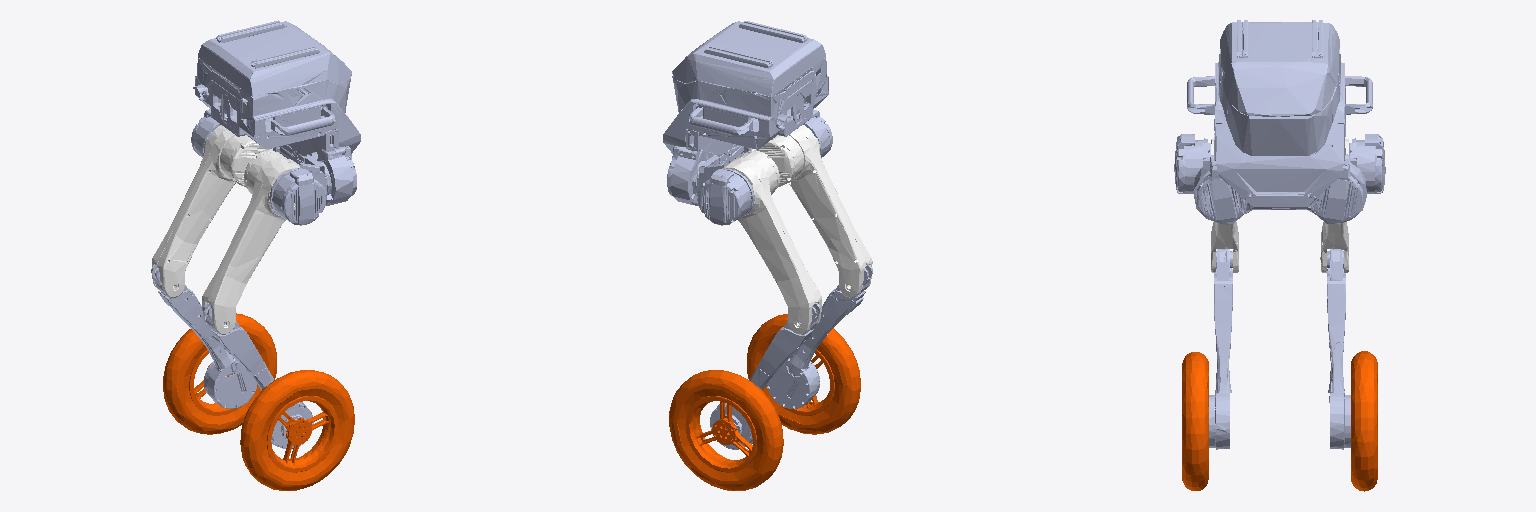
robot.urdf — wheel_biped:
<?xml version="1.0" encoding="utf-8"?>
<!-- Modified from LimX Dynamics' tron1-robot-description, pointfoot/WF_TRON1A/urdf/robot.urdf at commit
     ac417d44656d3c7494a095cecd62928e777a0f3a (Apache-2.0, LICENSE beside urdf/). Changes: the mesh URIs name this
     package's decimated STL files, the wheel_L_Joint and wheel_R_Joint are continuous instead of revolute with
     +-1e6 rad limits, and trailing whitespace is removed. README.md beside urdf/ lists them. -->
<robot name="wheel_biped">
    <!--
      Uncomment to support the robot by fixing its base link to the world frame.
      This anchors the robot in place, preventing movement.
    -->

    <!--
    <link name="world"/>
    <joint name="base_static_Joint" type="fixed">
        <origin rpy="0 0 0" xyz="0 0 0.3"/>
        <parent link="world"/>
        <child link="base_Link"/>
    </joint>
    -->
    <material name="black">
        <color rgba="0.0 0.0 0.0 1.0"/>
    </material>
    <material name="blue">
        <color rgba="0.0 0.0 0.8 1.0"/>
    </material>
    <material name="green">
        <color rgba="0.0 0.8 0.0 1.0"/>
    </material>
    <material name="grey">
        <color rgba="0.2 0.2 0.2 1.0"/>
    </material>
    <material name="silver">
        <color rgba="0.9137254901960784 0.9137254901960784 0.8470588235294118 1.0"/>
    </material>
    <material name="orange">
        <color rgba="1.0 0.4235294117647059 0.0392156862745098 1.0"/>
    </material>
    <material name="brown">
        <color rgba="0.8705882352941177 0.8117647058823529 0.7647058823529411 1.0"/>
    </material>
    <material name="red">
        <color rgba="0.8 0.0 0.0 1.0"/>
    </material>
    <material name="white">
        <color rgba="1.0 1.0 1.0 1.0"/>
    </material>
    <!-- ros_control plugin -->
    <gazebo>
        <plugin filename="libpointfoot_hw_sim.so" name="gazebo_ros_control">
            <robotNamespace>/</robotNamespace>
            <robotParam>robot_description</robotParam>
            <robotSimType>pointfoot_gazebo/PointFootHWSim</robotSimType>
        </plugin>
    </gazebo>
    <gazebo>
        <plugin filename="libgazebo_ros_p3d.so" name="p3d_base_controller">
            <alwaysOn>true</alwaysOn>
            <updateRate>1000.0</updateRate>
            <bodyName>base_Link</bodyName>
            <topicName>ground_truth/state</topicName>
            <gaussianNoise>0</gaussianNoise>
            <frameName>world</frameName>
            <xyzOffsets>0 0 0</xyzOffsets>
            <rpyOffsets>0 0 0</rpyOffsets>
        </plugin>
    </gazebo>

    <!-- <link name="world"/>
  <joint name="base_static_joint" type="fixed">
    <origin rpy="0 0 0" xyz="0 0 1"/>
    <parent link="world"/>
    <child link="base_Link"/>
  </joint>  -->

    <link
            name="base_Link">
        <inertial>
            <origin rpy="0 0 0" xyz="45.76E-03 0.14E-03 -163.98E-03"/>
            <mass value="9.585"/>
            <inertia ixx="140110.479E-06" ixy="534.939E-06" ixz="28184.116E-06"
                     iyy="110641.449E-06" iyz="-27.278E-06" izz="98944.542E-06"/>
        </inertial>
        <visual>
            <origin
                    xyz="0 0 0"
                    rpy="0 0 0"/>
            <geometry>
                <mesh
                        filename="package://tron1_description/meshes/base_Link.stl"/>
            </geometry>
            <material
                    name="">
                <color
                        rgba="0.79216 0.81961 0.93333 1"/>
            </material>
        </visual>
        <collision>
            <origin xyz="0.03 0 -0.072" rpy="0 0 0"/>
            <geometry>
                <box size="0.27 0.26 0.19"/>
            </geometry>
        </collision>
    </link>

     <joint name="limx_imu_joint" type="fixed">
        <origin rpy="0. 0. 0." xyz="0. 0. 0."/>
        <parent link="base_Link"/>
        <child link="limx_imu"/>
    </joint>
    <!-- Imu link -->
    <link name="limx_imu">
        <inertial>
            <mass value="0.01"/>
            <origin rpy="0 0 0" xyz="0 0 0"/>
            <inertia ixx="0.000001" ixy="0" ixz="0" iyy="0.000001" iyz="0" izz="0.000001"/>
        </inertial>
        <visual>
            <origin rpy="0 0 0" xyz="0 0 0"/>
            <geometry>
                <box size="0.015 0.015 0.004"/>
            </geometry>
        </visual>
        <material name="orange">
            <color rgba="255 108 10 255"/>
        </material>
    </link>
    <gazebo reference="limx_imu">
        <material>Gazebo/Orange</material>
    </gazebo>
    <gazebo reference="limx_imu_joint">
        <disableFixedJointLumping>true</disableFixedJointLumping>
    </gazebo>

    <link
            name="abad_L_Link">
        <inertial>
            <origin rpy="0 0 0" xyz="-69.77E-03 44.79E-03 0.57E-03"/>
            <mass value="1.469"/>
            <inertia ixx="1555.384E-06" ixy="397.78E-06" ixz="-13.10E-06"
                     iyy="2359.25E-06" iyz="-0.98E-06" izz="2080.92E-06"/>
        </inertial>
        <visual>
            <origin
                    xyz="0 0 0"
                    rpy="0 0 0"/>
            <geometry>
                <mesh
                        filename="package://tron1_description/meshes/abad_L_Link.stl"/>
            </geometry>
            <material
                    name="">
                <color
                        rgba="0.79216 0.81961 0.93333 1"/>
            </material>
        </visual>
        <collision>
            <origin xyz="0.03 0 0" rpy="1.57 0 1.57"/>
            <geometry>
                <cylinder length="0.05" radius="0.05"/>
            </geometry>
        </collision>
    </link>
    <joint
            name="abad_L_Joint"
            type="revolute">
        <origin
                xyz="55.56E-03 105E-03 -260.2E-03"
                rpy="0 0 0"/>
        <parent
                link="base_Link"/>
        <child
                link="abad_L_Link"/>
        <axis
                xyz="1 0 0"/>
        <limit effort="80.0" lower="-0.38397" upper="1.39626" velocity="15.0"/>
    </joint>
    <link
            name="hip_L_Link">
        <inertial>
            <origin rpy="0 0 0" xyz="-28.69E-03 -47.7E-03 -39.92E-03"/>
            <mass value="2.3"/>
            <inertia ixx="16937.28E-06" ixy="1647.03E-06" ixz="-9232.53E-06"
                     iyy="22853.28E-06" iyz="2202.40E-06" izz="9334.19E-06"/>
        </inertial>
        <visual>
            <origin
                    xyz="0 0 0"
                    rpy="0 0 0"/>
            <geometry>
                <mesh
                        filename="package://tron1_description/meshes/hip_L_Link.stl"/>
            </geometry>
            <material
                    name="">
                <color
                        rgba="1 1 1 1"/>
            </material>
        </visual>
        <collision>
            <origin xyz="-0.10 -0.03 -0.14" rpy="0 0.53 0"/>
            <geometry>
                <cylinder length="0.15" radius="0.035"/>
            </geometry>
        </collision>
    </link>
    <joint
            name="hip_L_Joint"
            type="revolute">
        <origin
                xyz="-0.077 0.02050 0"
                rpy="0 0 0"/>
        <parent
                link="abad_L_Link"/>
        <child
                link="hip_L_Link"/>
        <axis
                xyz="0 1 0"/>
        <limit effort="80.0" lower="-1.012291" upper="1.396263" velocity="15.0"/>
    </joint>
    <link
            name="knee_L_Link">
        <inertial>
            <origin rpy="0 0 0" xyz="119.13E-03 11.06E-03 -203.63E-03"/>
            <mass value="1.49"/>
            <inertia ixx="13232.8E-06" ixy="-435.46E-06" ixz="6935.69E-06"
                     iyy="17661.37E-06" iyz="790.87E-06" izz="5016.98E-06"/>
        </inertial>
        <visual>
            <origin
                    xyz="0 0 0"
                    rpy="0 0 0"/>
            <geometry>
                <mesh
                        filename="package://tron1_description/meshes/knee_L_Link.stl"/>
            </geometry>
            <material
                    name="">
                <color
                        rgba="0.79216 0.81961 0.93333 1"/>
            </material>
        </visual>
        <collision>
            <origin xyz="0.078 0 -0.12" rpy="0 -0.55 0"/>
            <geometry>
                <cylinder length="0.26" radius="0.015"/>
            </geometry>
        </collision>
        <!-- hub motor housing on the knee, around the wheel axle -->
        <collision>
            <origin xyz="0.15 0.0149 -0.25981" rpy="1.5707963267948966 0 0"/>
            <geometry>
                <cylinder length="0.0562" radius="0.052"/>
            </geometry>
        </collision>
    </link>
    <joint
            name="knee_L_Joint"
            type="revolute">
        <origin
                xyz="-0.1500 -0.02050 -0.25981"
                rpy="0 0 0"/>
        <parent
                link="hip_L_Link"/>
        <child
                link="knee_L_Link"/>
        <axis
                xyz="0 -1 0"/>
        <limit effort="80" lower="-0.872665" upper="1.361357" velocity="15"/>
    </joint>

    <joint name="wheel_L_Joint" type="continuous">
        <origin rpy="0 0 0" xyz="150E-03 43.5E-03 -259.81E-03" />
        <parent link="knee_L_Link" />
        <child link="wheel_L_Link" />
        <axis xyz="0 1 0" />
        <limit effort="40" velocity="40" />
        <dynamics friction="0.01" />
    </joint>

    <link name="wheel_L_Link">
        <visual>
            <origin rpy="0 0 0" xyz="0 0 0" />
            <geometry>
                <mesh filename="package://tron1_description/meshes/wheel_L_Link.stl" />
            </geometry>
            <material name="orange" />
            <color rgba="0.69804 0.69804 0.69804 1" />
        </visual>
        <collision>
            <origin rpy="1.5707963267948966 0 0" xyz="0 0.00707 0" />
            <geometry>
                <cylinder length="0.05" radius="0.127" />
            </geometry>
        </collision>
        <inertial>
            <origin rpy="0 0 0" xyz="0.03E-03 8.07E-03 -0.02E-03" />
            <mass value="1.08" />
            <inertia ixx="5155.12E-06" ixy="0.01E-06" ixz="-0.97E-06"
                     iyy="9742.72E-06" iyz="-0.01E-06" izz="5154.00E-06" />
        </inertial>
    </link>

    <gazebo reference="hip_L_Link">
        <mu1>0.2</mu1>
        <mu2>0.2</mu2>
        <material>Gazebo/DarkGrey</material>
    </gazebo>
    <gazebo reference="knee_L_Link">
        <mu1>0.2</mu1>
        <mu2>0.2</mu2>
        <self_collide>0</self_collide>
        <material>Gazebo/DarkGrey</material>
        <kp value="1000000.0"/>
        <kd value="100.0"/>
    </gazebo>
    <gazebo reference="wheel_L_Link">
        <mu1>0.6</mu1>
        <mu2>0.6</mu2>
        <self_collide>1</self_collide>
        <material>Gazebo/DarkGrey</material>
        <kp value="1000000.0"/>
        <kd value="1.0"/>
    </gazebo>

    <transmission name="abad_L_Joint_tran">
        <type>transmission_interface/SimpleTransmission</type>
        <joint name="abad_L_Joint">
            <hardwareInterface>hardware_interface/EffortJointInterface</hardwareInterface>
        </joint>
        <actuator name="abad_L_Joint_motor">
            <hardwareInterface>hardware_interface/EffortJointInterface</hardwareInterface>
            <mechanicalReduction>1</mechanicalReduction>
        </actuator>
    </transmission>
    <transmission name="hip_L_Joint_tran">
        <type>transmission_interface/SimpleTransmission</type>
        <joint name="hip_L_Joint">
            <hardwareInterface>hardware_interface/EffortJointInterface</hardwareInterface>
        </joint>
        <actuator name="hip_L_Joint_motor">
            <hardwareInterface>hardware_interface/EffortJointInterface</hardwareInterface>
            <mechanicalReduction>1</mechanicalReduction>
        </actuator>
    </transmission>
    <transmission name="knee_L_Joint_tran">
        <type>transmission_interface/SimpleTransmission</type>
        <joint name="knee_L_Joint">
            <hardwareInterface>hardware_interface/EffortJointInterface</hardwareInterface>
        </joint>
        <actuator name="knee_L_Joint_motor">
            <hardwareInterface>hardware_interface/EffortJointInterface</hardwareInterface>
            <mechanicalReduction>1</mechanicalReduction>
        </actuator>
    </transmission>
    <transmission name="wheel_L_Joint_tran">
        <type>transmission_interface/SimpleTransmission</type>
        <joint name="wheel_L_Joint">
            <hardwareInterface>hardware_interface/EffortJointInterface</hardwareInterface>
        </joint>
        <actuator name="wheel_L_Joint_motor">
            <hardwareInterface>hardware_interface/EffortJointInterface</hardwareInterface>
            <mechanicalReduction>1</mechanicalReduction>
        </actuator>
    </transmission>

    <link
            name="abad_R_Link">
        <inertial>
            <origin rpy="0 0 0" xyz="-69.77E-03 -44.79E-03 0.57E-03"/>
            <mass value="1.469"/>
            <inertia ixx="1555.384E-06" ixy="-397.78E-06" ixz="-13.10E-06"
                     iyy="2359.25E-06" iyz="0.98E-06" izz="2080.92E-06"/>
        </inertial>
        <visual>
            <origin
                    xyz="0 0 0"
                    rpy="0 0 0"/>
            <geometry>
                <mesh
                        filename="package://tron1_description/meshes/abad_R_Link.stl"/>
            </geometry>
            <material
                    name="">
                <color
                        rgba="0.79216 0.81961 0.93333 1"/>
            </material>
        </visual>
        <collision>
            <origin xyz="0.03 0 0" rpy="1.57 0 1.57"/>
            <geometry>
                <cylinder length="0.05" radius="0.05"/>
            </geometry>
        </collision>
    </link>
    <joint
            name="abad_R_Joint"
            type="revolute">
        <origin
                xyz="55.56E-03 -105E-03 -260.2E-03"
                rpy="0 0 0"/>
        <parent
                link="base_Link"/>
        <child
                link="abad_R_Link"/>
        <axis
                xyz="1 0 0"/>
        <limit effort="80.0" lower="-1.39626" upper="0.38397" velocity="15.0"/>
    </joint>
    <link
            name="hip_R_Link">
        <inertial>
            <origin rpy="0 0 0" xyz="-28.69E-03 47.7E-03 -39.92E-03"/>
            <mass value="2.30"/>
            <inertia ixx="16937.28E-06" ixy="-1647.03E-06" ixz="-9232.53E-06"
                     iyy="22853.28E-06" iyz="-2202.40E-06" izz="9334.19E-06"/>
        </inertial>
        <visual>
            <origin
                    xyz="0 0 0"
                    rpy="0 0 0"/>
            <geometry>
                <mesh
                        filename="package://tron1_description/meshes/hip_R_Link.stl"/>
            </geometry>
            <material
                    name="">
                <color
                        rgba="1 1 1 1"/>
            </material>
        </visual>
        <collision>
            <origin xyz="-0.10 0.03 -0.14" rpy="0 0.53 0"/>
            <geometry>
                <cylinder length="0.15" radius="0.035"/>
            </geometry>
        </collision>
    </link>
    <joint
            name="hip_R_Joint"
            type="revolute">
        <origin
                xyz="-0.077 -0.02050 0"
                rpy="0 0 0"/>
        <parent
                link="abad_R_Link"/>
        <child
                link="hip_R_Link"/>
        <axis
                xyz="0 -1 0"/>
        <limit effort="80.0" lower="-1.396263" upper="1.012291" velocity="15.0"/>
    </joint>
    <link
            name="knee_R_Link">
        <inertial>
            <origin rpy="0 0 0" xyz="119.13E-03 -11.06E-03 -203.63E-03"/>
            <mass value="1.49"/>
            <inertia ixx="13232.8E-06" ixy="435.46E-06" ixz="6935.69E-06"
                     iyy="17661.37E-06" iyz="-790.87E-06" izz="5016.98E-06"/>
        </inertial>
        <visual>
            <origin
                    xyz="0 0 0"
                    rpy="0 0 0"/>
            <geometry>
                <mesh
                        filename="package://tron1_description/meshes/knee_R_Link.stl"/>
            </geometry>
            <material
                    name="">
                <color
                        rgba="0.79216 0.81961 0.93333 1"/>
            </material>
        </visual>
        <collision>
            <origin xyz="0.078 0 -0.12" rpy="0 -0.55 0"/>
            <geometry>
                <cylinder length="0.26" radius="0.015"/>
            </geometry>
        </collision>
        <!-- hub motor housing on the knee, around the wheel axle -->
        <collision>
            <origin xyz="0.15 -0.0149 -0.25981" rpy="1.5707963267948966 0 0"/>
            <geometry>
                <cylinder length="0.0562" radius="0.052"/>
            </geometry>
        </collision>
    </link>
    <joint
            name="knee_R_Joint"
            type="revolute">
        <origin
                xyz="-0.1500 0.02050 -0.25981"
                rpy="0 0 0"/>
        <parent
                link="hip_R_Link"/>
        <child
                link="knee_R_Link"/>
        <axis
                xyz="0 1 0"/>
        <limit effort="80" lower="-1.361357" upper="0.872665" velocity="15"/>
    </joint>

    <joint name="wheel_R_Joint" type="continuous">
        <origin rpy="0 0 0" xyz="150E-03 -43.5E-03 -259.81E-03" />
        <parent link="knee_R_Link" />
        <child link="wheel_R_Link" />
        <axis xyz="0 1 0" />
        <limit effort="40" velocity="40" />
        <dynamics friction="0.01" />
    </joint>

    <link name="wheel_R_Link">
        <visual>
            <origin rpy="0 0 0" xyz="0 0 0" />
            <geometry>
                <mesh filename="package://tron1_description/meshes/wheel_R_Link.stl" />
            </geometry>
            <material name="orange" />
            <color rgba="0.69804 0.69804 0.69804 1" />
        </visual>
        <collision>
            <origin rpy="1.5707963267948966 0 0" xyz="0 -0.00707 0" />
            <geometry>
                <cylinder length="0.05" radius="0.127" />
            </geometry>
        </collision>
        <inertial>
            <origin rpy="0 0 0" xyz="0.03E-03 -8.07E-03 -0.02E-03" />
            <mass value="1.08" />
            <inertia ixx="5155.12E-06" ixy="-0.01E-06" ixz="-0.97E-06"
                     iyy="9742.72E-06" iyz="0.01E-06" izz="5154.00E-06" />
        </inertial>
    </link>

    <gazebo reference="hip_R_Link">
        <mu1>0.2</mu1>
        <mu2>0.2</mu2>
        <material>Gazebo/DarkGrey</material>
    </gazebo>
    <gazebo reference="knee_R_Link">
        <mu1>0.2</mu1>
        <mu2>0.2</mu2>
        <self_collide>0</self_collide>
        <material>Gazebo/DarkGrey</material>
        <kp value="1000000.0"/>
        <kd value="100.0"/>
    </gazebo>
    <gazebo reference="wheel_R_Link">
        <mu1>0.6</mu1>
        <mu2>0.6</mu2>
        <self_collide>1</self_collide>
        <material>Gazebo/DarkGrey</material>
        <kp value="1000000.0"/>
        <kd value="1.0"/>
    </gazebo>

    <transmission name="abad_R_Joint_tran">
        <type>transmission_interface/SimpleTransmission</type>
        <joint name="abad_R_Joint">
            <hardwareInterface>hardware_interface/EffortJointInterface</hardwareInterface>
        </joint>
        <actuator name="abad_R_Joint_motor">
            <hardwareInterface>hardware_interface/EffortJointInterface</hardwareInterface>
            <mechanicalReduction>1</mechanicalReduction>
        </actuator>
    </transmission>
    <transmission name="hip_R_Joint_tran">
        <type>transmission_interface/SimpleTransmission</type>
        <joint name="hip_R_Joint">
            <hardwareInterface>hardware_interface/EffortJointInterface</hardwareInterface>
        </joint>
        <actuator name="hip_R_Joint_motor">
            <hardwareInterface>hardware_interface/EffortJointInterface</hardwareInterface>
            <mechanicalReduction>1</mechanicalReduction>
        </actuator>
    </transmission>
    <transmission name="knee_R_Joint_tran">
        <type>transmission_interface/SimpleTransmission</type>
        <joint name="knee_R_Joint">
            <hardwareInterface>hardware_interface/EffortJointInterface</hardwareInterface>
        </joint>
        <actuator name="knee_R_Joint_motor">
            <hardwareInterface>hardware_interface/EffortJointInterface</hardwareInterface>
            <mechanicalReduction>1</mechanicalReduction>
        </actuator>
    </transmission>
    <transmission name="wheel_R_Joint_tran">
        <type>transmission_interface/SimpleTransmission</type>
        <joint name="wheel_R_Joint">
            <hardwareInterface>hardware_interface/EffortJointInterface</hardwareInterface>
        </joint>
        <actuator name="wheel_R_Joint_motor">
            <hardwareInterface>hardware_interface/EffortJointInterface</hardwareInterface>
            <mechanicalReduction>1</mechanicalReduction>
        </actuator>
    </transmission>

    <!-- ****************************************** D435 Camera ******************************************************** -->
    <!-- <joint name="d435_joint" type="fixed">
        <origin rpy="0 1.063778179 0" xyz="0.13223 0.0222 -0.26826"/>
        <parent link="base_Link"/>
        <child link="d435_Link"/>
    </joint>
    <link name="d435_Link">
        <visual>
            <origin rpy="1.5707963267948966 0 1.5707963267948966" xyz="0.0149 -0.0175 0"/>
            <geometry>
                <mesh filename="package://robot_description/pointfoot/meshes_camera/d435.dae"/>
            </geometry>
        </visual>
        <collision>
            <origin rpy="0 0 0" xyz="0 -0.0175 0"/>
            <geometry>
                <box size="0.02505 0.09 0.025"/>
            </geometry>
        </collision>
    </link> -->
    <!-- ****************************************** D435 Camera END ******************************************************** -->
</robot>

--- Facts derived from the render (not from the file) ---
3 views of the same robot in one strip: view 1: azimuth 30°, elevation 25°; view 2: azimuth 150°, elevation 25°; view 3: azimuth 270°, elevation 25° (orthographic).
Model wheel_biped with 10 links and 9 joints (6 revolute, 2 continuous, 1 fixed), rooted at base_Link, posed all joints at 0.
Links seen in each view (by area): view 1: base_Link, wheel_R_Link, hip_L_Link, hip_R_Link, wheel_L_Link, knee_L_Link, abad_R_Link, knee_R_Link, abad_L_Link; view 2: base_Link, wheel_L_Link, hip_R_Link, hip_L_Link, wheel_R_Link, knee_R_Link, abad_L_Link, knee_L_Link, abad_R_Link; view 3: base_Link, wheel_L_Link, wheel_R_Link, knee_L_Link, knee_R_Link, abad_L_Link, abad_R_Link, hip_L_Link, hip_R_Link.
Boxes of the visible links, <box> form: base_Link: <box>193,20,360,205</box>; wheel_R_Link: <box>240,370,354,490</box>; hip_L_Link: <box>152,125,271,297</box>; hip_R_Link: <box>202,150,299,334</box>; wheel_L_Link: <box>163,313,276,434</box>; knee_L_Link: <box>151,265,256,408</box>; abad_R_Link: <box>269,155,326,225</box>; knee_R_Link: <box>203,303,313,449</box>; abad_L_Link: <box>191,109,271,157</box>; base_Link: <box>663,21,828,205</box>; wheel_L_Link: <box>669,370,783,490</box>; hip_R_Link: <box>752,125,872,297</box>; hip_L_Link: <box>724,150,821,334</box>; wheel_R_Link: <box>747,314,860,434</box>; knee_R_Link: <box>766,265,872,408</box>; abad_L_Link: <box>697,155,754,225</box>; knee_L_Link: <box>710,303,820,449</box>; abad_R_Link: <box>752,109,832,157</box>; base_Link: <box>1187,20,1372,224</box>; wheel_L_Link: <box>1351,351,1377,491</box>; wheel_R_Link: <box>1182,352,1208,490</box>; knee_L_Link: <box>1327,249,1350,449</box>; knee_R_Link: <box>1209,249,1232,449</box>; abad_L_Link: <box>1349,134,1385,193</box>; abad_R_Link: <box>1174,134,1210,193</box>; hip_L_Link: <box>1320,139,1348,272</box>; hip_R_Link: <box>1211,139,1238,272</box>.
Size in the robot's own frame: 0.3719 by 0.391 by 0.9258 metres.
9 mesh visuals loaded from 9 distinct referenced files (9 binary STL).
